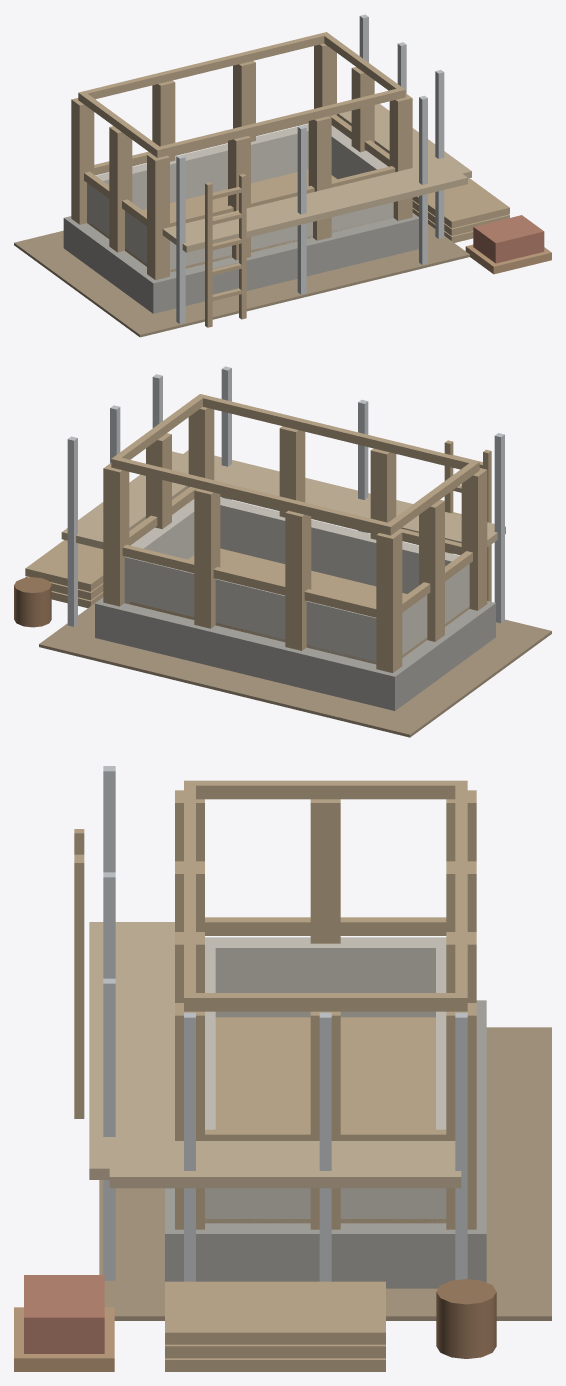
Rendered from garden_shed_site_5.glb.
3 views of the same model, one above another, from view 1: azimuth 30°, elevation 25°; view 2: azimuth 150°, elevation 25°; view 3: azimuth 270°, elevation 25° (orthographic). The views are drawn at different scales.
Parts seen in each view (by area): view 1: body; view 2: body; view 3: body.
Boxes of the visible parts, bbox=[...] form: body: bbox=[14, 14, 551, 337]; body: bbox=[14, 366, 551, 737]; body: bbox=[14, 766, 551, 1371].
Bounding box in the file's own units: 1.2 × 0.4947 × 0.8.
